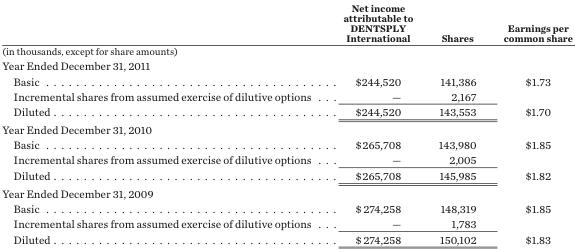table: (1, 0, 571, 245)
table column: (1, 0, 326, 245), (326, 0, 425, 245), (489, 0, 571, 245), (425, 0, 489, 245)
table column header: (1, 0, 571, 57)
table projected row header: (1, 183, 571, 200), (1, 57, 571, 73), (1, 120, 571, 136)
table row: (1, 0, 571, 57), (1, 103, 571, 120), (1, 183, 571, 200), (1, 57, 571, 73), (1, 120, 571, 136), (1, 151, 571, 167), (1, 167, 571, 183), (1, 73, 571, 88), (1, 88, 571, 103), (1, 136, 571, 151), (1, 200, 571, 215), (1, 215, 571, 230), (1, 230, 571, 245)
